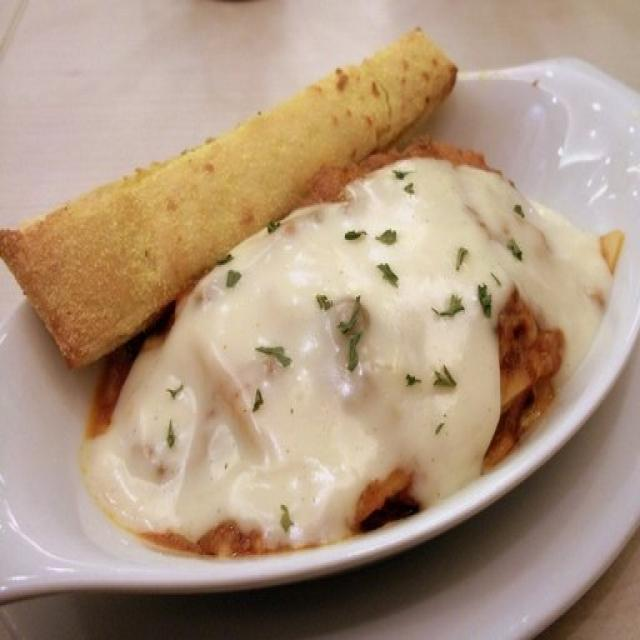Lasagna: (146, 154, 596, 539)
